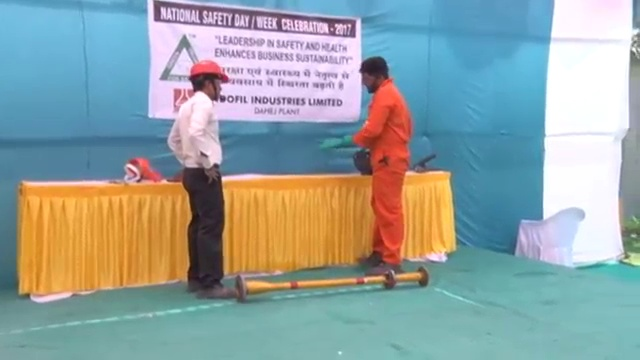helmet: (187, 59, 229, 85)
helmet_off: (357, 57, 392, 96)
helmet_on: (186, 58, 230, 102)
person: (168, 58, 236, 299), (352, 59, 412, 277)
